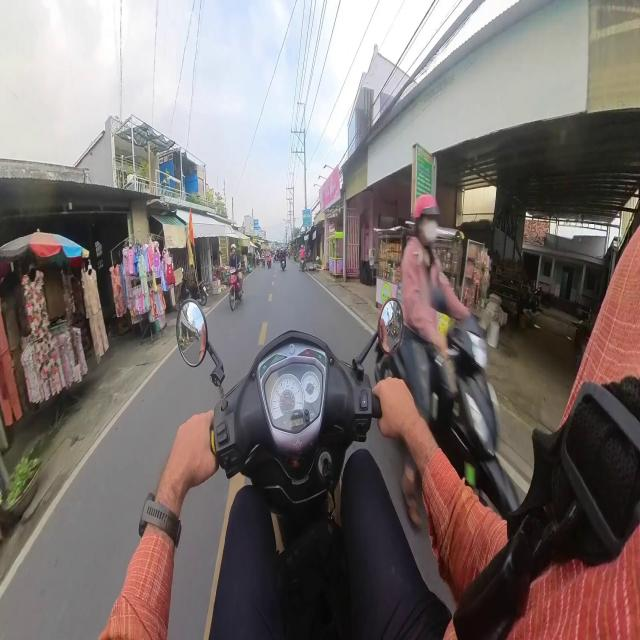motorcycle: (177, 301, 380, 638), (422, 317, 519, 517), (229, 268, 242, 311), (300, 258, 305, 271), (281, 257, 285, 270), (267, 256, 271, 268)
